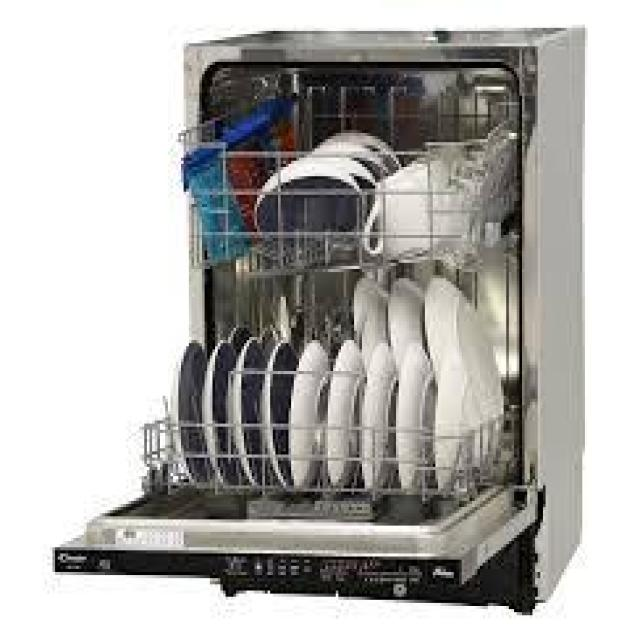dishwasher: (47, 25, 577, 624)
